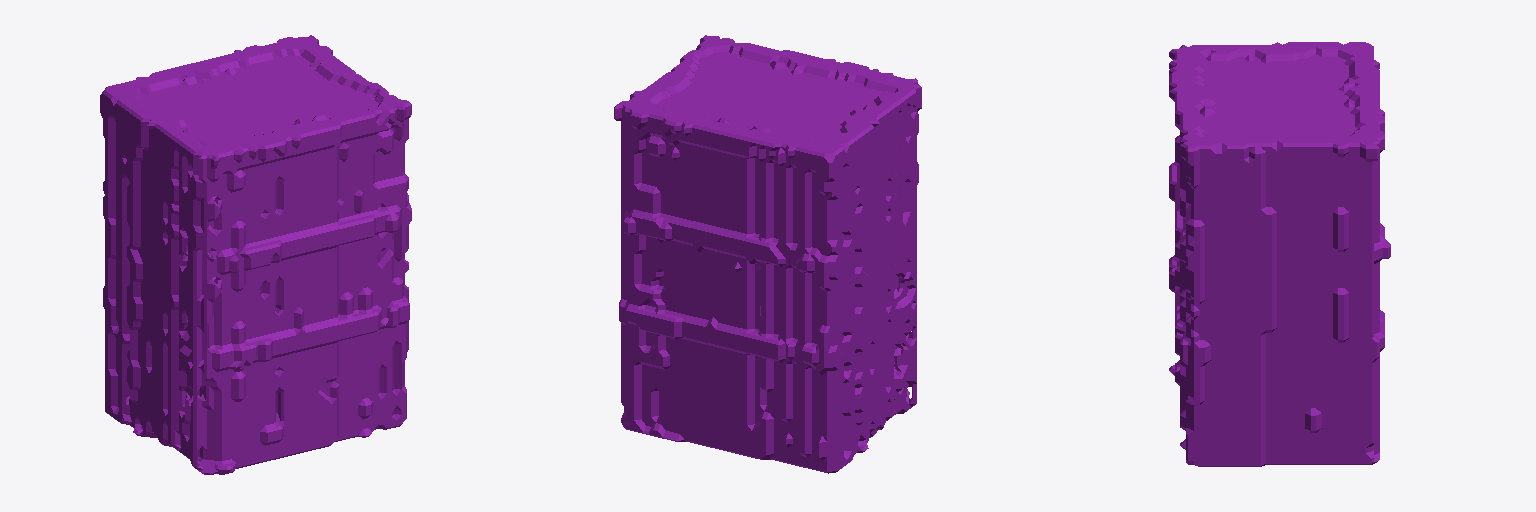
The model's file is gen4_colored.obj.
3 views of the same model, side by side, from view 1: azimuth 30°, elevation 25°; view 2: azimuth 150°, elevation 25°; view 3: azimuth 270°, elevation 25° (orthographic).
Visible parts, largest first — view 1: gen4.obj; view 2: gen4.obj; view 3: gen4.obj.
Part boxes in pixels (bbox=[...]): gen4.obj: bbox=[100, 35, 411, 474]; gen4.obj: bbox=[614, 35, 921, 473]; gen4.obj: bbox=[1169, 42, 1390, 466].
Bounding box in the file's own units: 46 × 64 × 40.